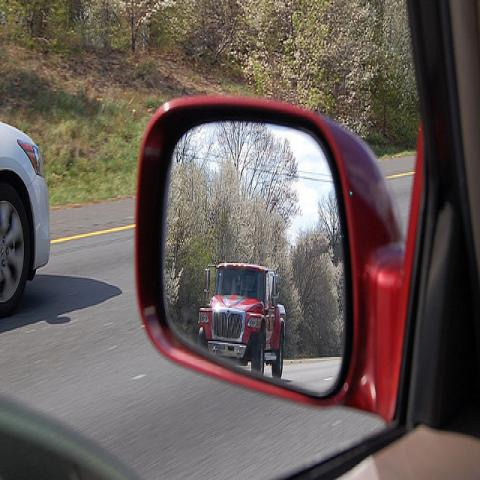car: (1, 127, 49, 317)
truck: (134, 3, 479, 475), (198, 260, 286, 380)
